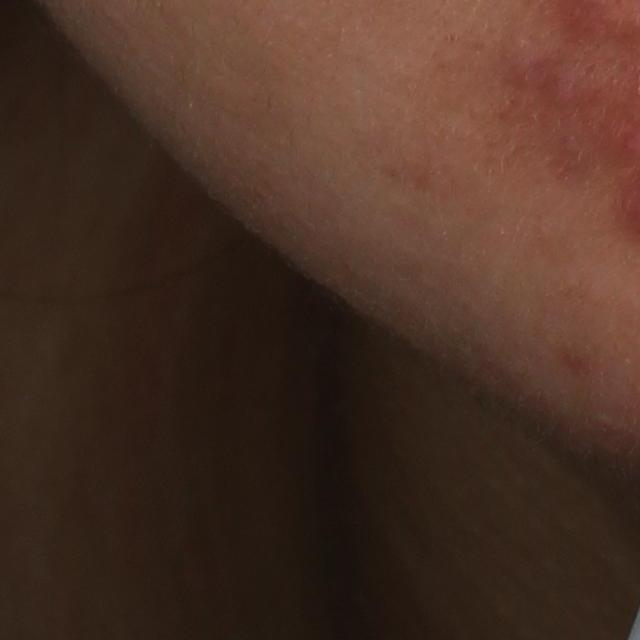papule: (543, 53, 594, 115), (499, 33, 547, 88)
